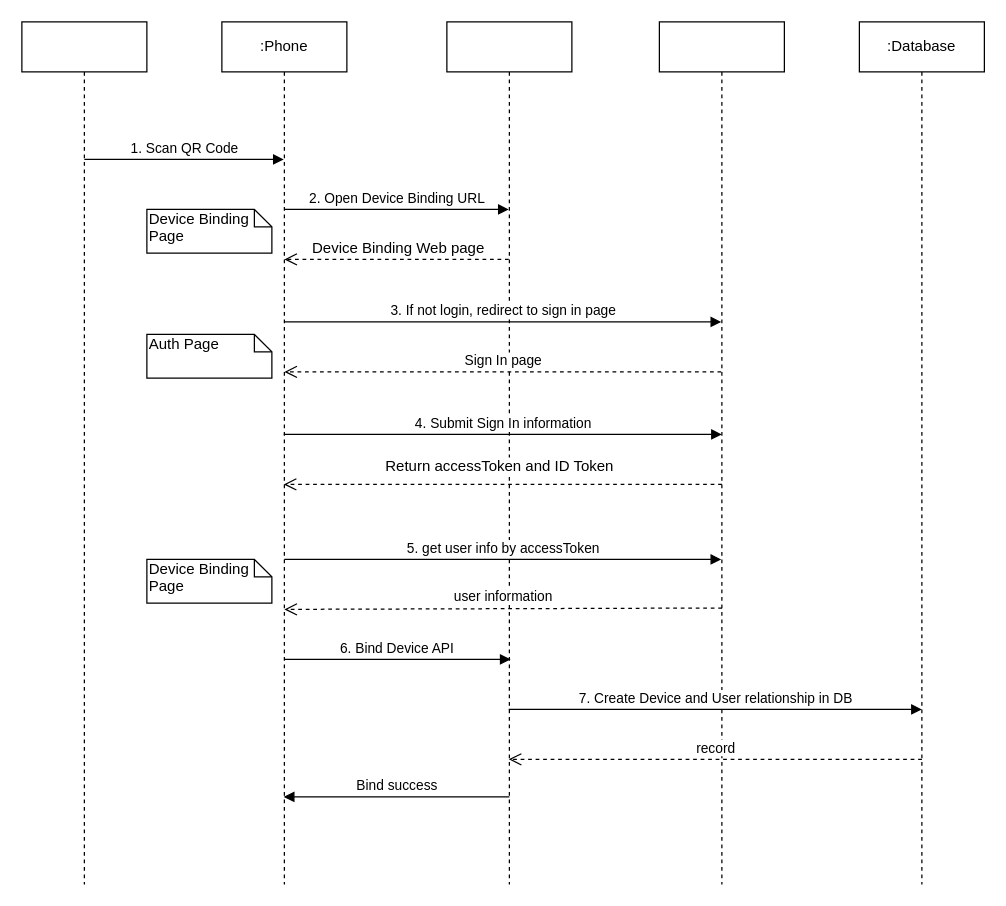
The diagram is 1006 pixels wide and 906 high, and some of its shapes have lost their labels. The shapes that lost their labels are listed below. From the top down, each one's box as (x1, y1, x2, y2) in pixels, then its label:
(21, 21, 147, 884): :Device
(446, 21, 572, 884): :Resource Server
(658, 21, 784, 884): :Auth Server
